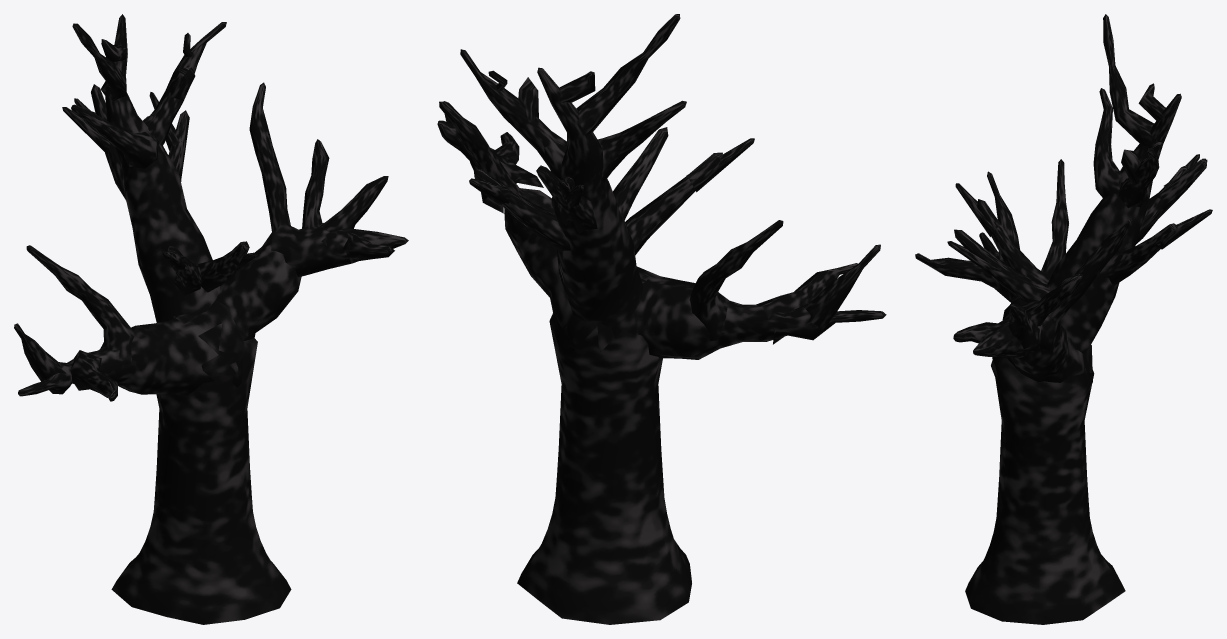
File: CreTree04a.glb
3 views of the same model, side by side, from view 1: azimuth 30°, elevation 25°; view 2: azimuth 150°, elevation 25°; view 3: azimuth 270°, elevation 25° (orthographic). The views are drawn at different scales.
Parts seen in each view (by area): view 1: CreTree04a_limbs; view 2: CreTree04a_limbs; view 3: CreTree04a_limbs.
Boxes of the visible parts, x1,y1,x2,y2 form: CreTree04a_limbs: (14, 14, 408, 624); CreTree04a_limbs: (437, 14, 886, 624); CreTree04a_limbs: (915, 14, 1212, 624).
Size of the model in its own units: 5.9 by 8.24 by 4.18.
Materials: 1 (1 with a texture image).
